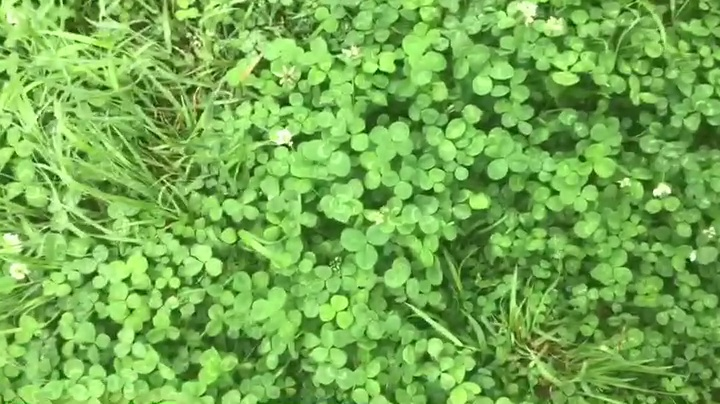4-clover: (371, 119, 412, 163)
